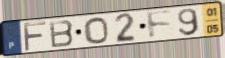2: (113, 12, 137, 45)
9: (177, 7, 201, 37)
B: (48, 19, 76, 50)
F: (145, 9, 174, 41), (22, 20, 49, 53)
O: (82, 16, 111, 45)
